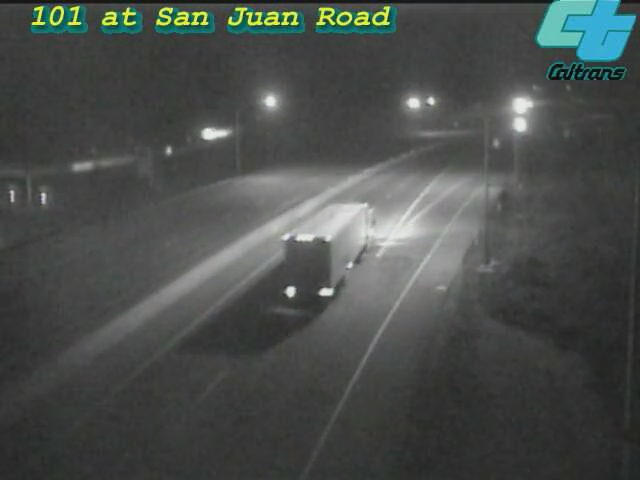vehicle: (287, 209, 367, 289), (493, 100, 543, 150), (493, 82, 543, 132)
